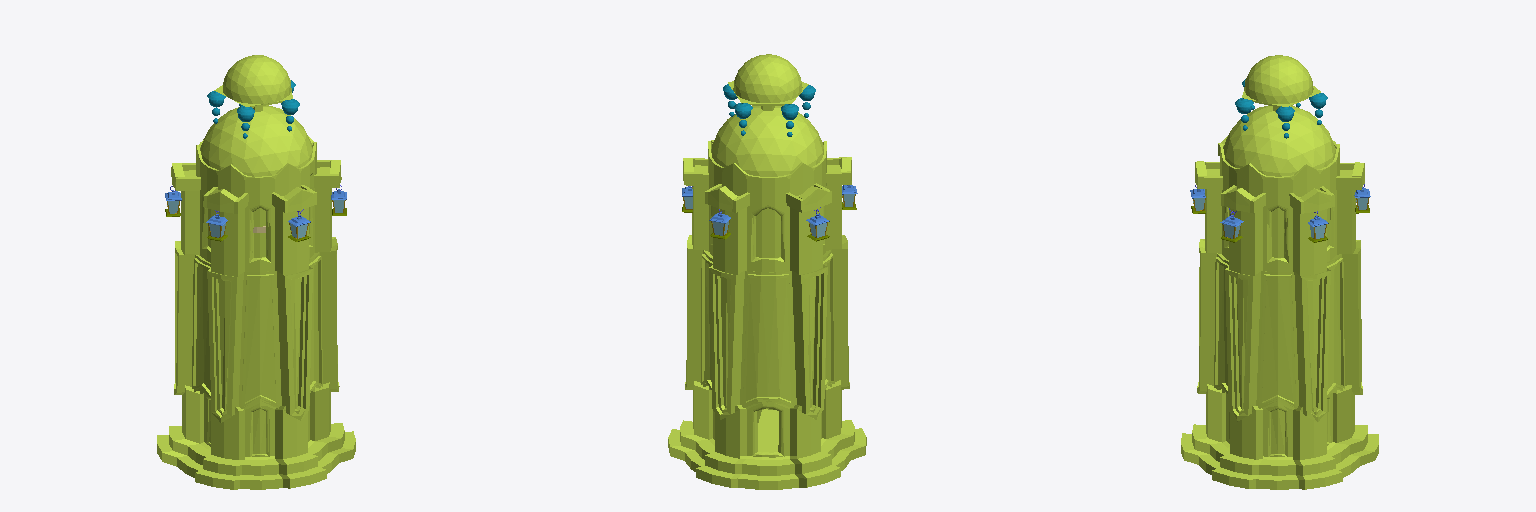
File: tower.obj
3 views of the same model, side by side, from view 1: azimuth 30°, elevation 25°; view 2: azimuth 150°, elevation 25°; view 3: azimuth 270°, elevation 25° (orthographic).
Visible parts, largest first — view 1: tower_right, top, Object002, Object004, gold_edge, Object001, Object003, window001; view 2: tower_right, top, Object002, Object004, gold_edge, Object001, Object003, window001; view 3: tower_right, top, Object002, Object004, gold_edge, Object001, Object003, window001.
Boxes of the visible parts, x1,y1,x2,y2 form: tower_right: [157, 136, 355, 489]; top: [200, 55, 312, 176]; Object002: [196, 263, 318, 401]; Object004: [174, 246, 339, 422]; gold_edge: [196, 140, 316, 189]; Object001: [218, 278, 301, 410]; Object003: [202, 174, 312, 456]; window001: [208, 208, 265, 453]; tower_right: [668, 140, 866, 489]; top: [711, 54, 823, 176]; Object002: [704, 262, 830, 400]; Object004: [685, 248, 849, 419]; gold_edge: [708, 141, 826, 189]; Object001: [720, 277, 815, 407]; Object003: [710, 205, 824, 457]; window001: [756, 208, 780, 257]; tower_right: [1181, 136, 1378, 489]; top: [1223, 55, 1335, 176]; Object002: [1218, 264, 1340, 401]; Object004: [1197, 248, 1362, 422]; gold_edge: [1220, 140, 1339, 189]; Object001: [1236, 278, 1319, 410]; Object003: [1224, 194, 1334, 456]; window001: [1271, 208, 1329, 453].
Bounding box in the file's own units: 66.12 × 150 × 68.4.